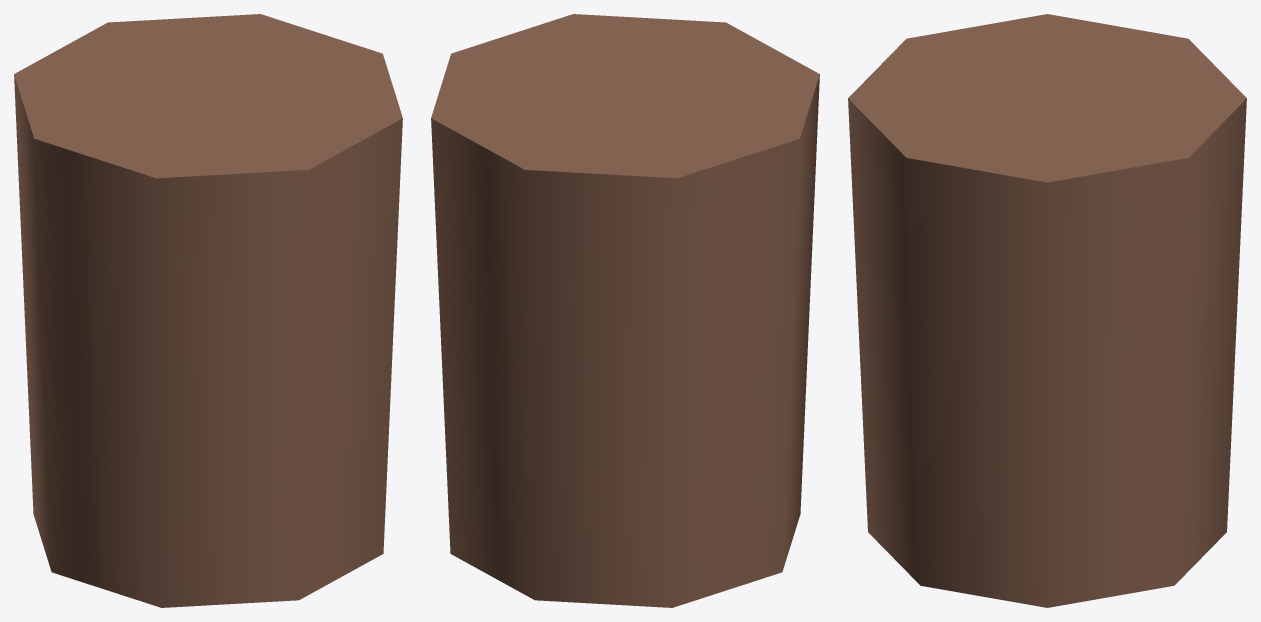
File: neck.obj
3 renders of one model, left to right at view 1: azimuth 30°, elevation 25°; view 2: azimuth 150°, elevation 25°; view 3: azimuth 270°, elevation 25°, orthographic.
Parts seen in each view (by area): view 1: neck; view 2: neck; view 3: neck.
Part boxes in pixels (bbox=[...]): neck: bbox=[14, 14, 402, 607]; neck: bbox=[431, 14, 819, 607]; neck: bbox=[848, 14, 1246, 607].
Size of the model in its own units: 0.096 by 0.1152 by 0.096.
